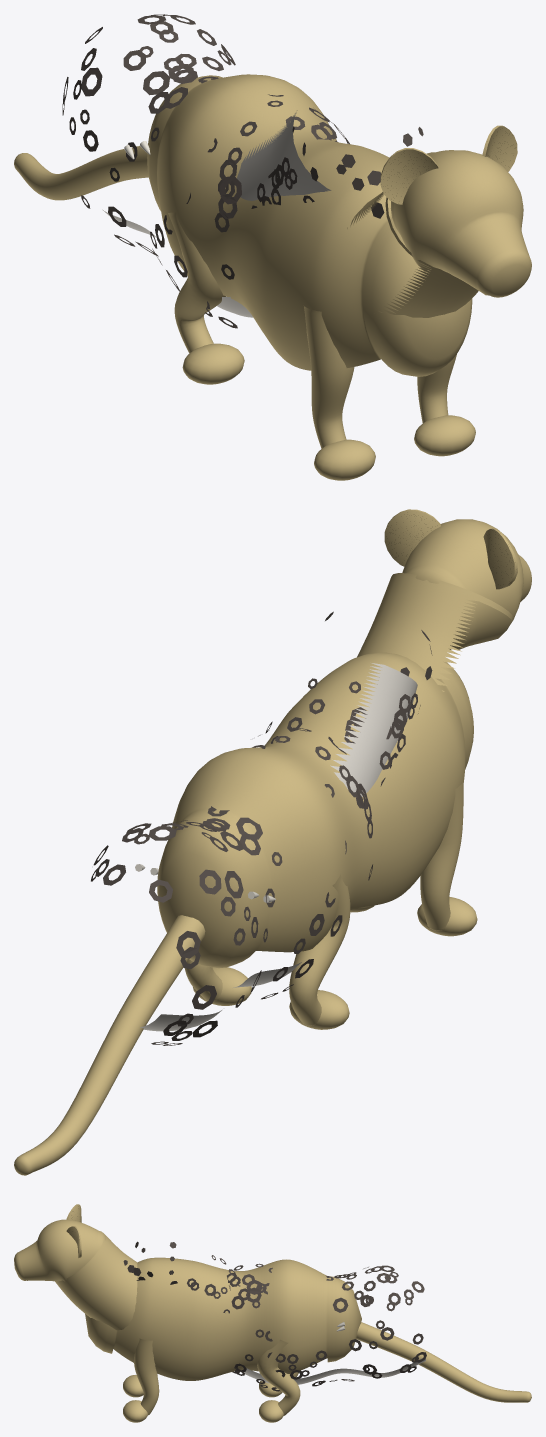
The model's file is other-jaguar.glb.
The picture shows the model from 3 angles, top to bottom: view 1: azimuth 30°, elevation 25°; view 2: azimuth 150°, elevation 25°; view 3: azimuth 270°, elevation 25°; orthographic projection. The views are drawn at different scales.
Visible parts, largest first — view 1: jaguar; view 2: jaguar; view 3: jaguar.
Boxes of the visible parts, left/top/right/bottom form: jaguar: left=14, top=14, right=531, bottom=480; jaguar: left=14, top=509, right=531, bottom=1175; jaguar: left=14, top=1204, right=531, bottom=1422.
Size of the model in its own units: 15133 by 32933 by 80816.
6 materials, 3 textured.
